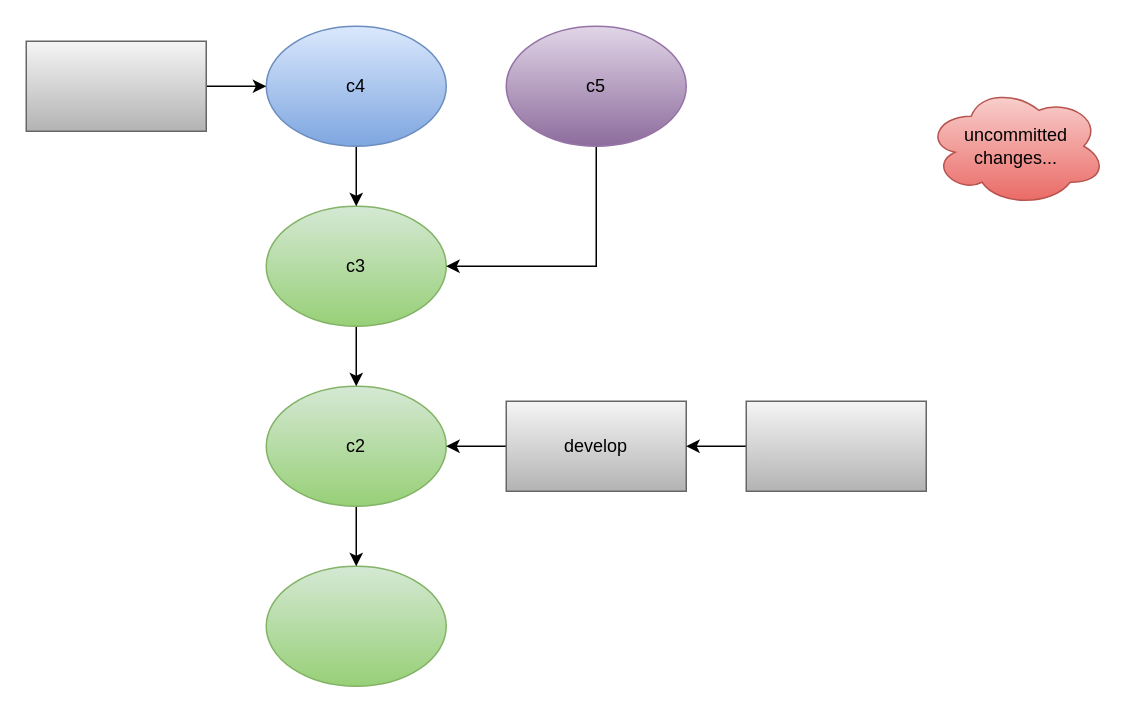
The diagram is 1133 pixels wide and 713 high, and some of its shapes have lost their labels. Here are the shapes that lost their labels. From the top down, the centre of each, then its label:
At point 115,85: "master".
At point 835,445: "HEAD".
At point 355,625: "c1".
